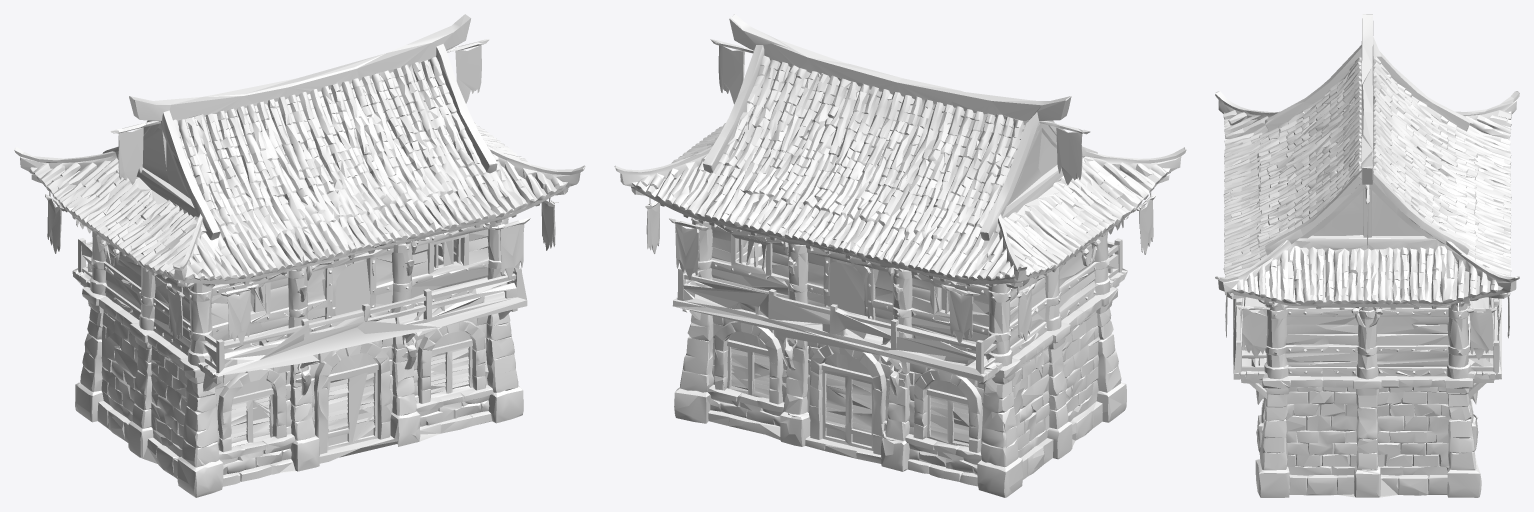
File: house_stone_c.glb
3 views of the same model, side by side, from view 1: azimuth 30°, elevation 25°; view 2: azimuth 150°, elevation 25°; view 3: azimuth 270°, elevation 25° (orthographic). The views are drawn at different scales.
Parts seen in each view (by area): view 1: house_stone_c; view 2: house_stone_c; view 3: house_stone_c.
Part boxes in pixels (left/top/right/bottom): house_stone_c: left=14, top=14, right=585, bottom=497; house_stone_c: left=614, top=14, right=1186, bottom=497; house_stone_c: left=1215, top=14, right=1519, bottom=497.
Size of the model in its own units: 9.65 by 8 by 6.64.
Materials: 1 (1 with a texture image).
